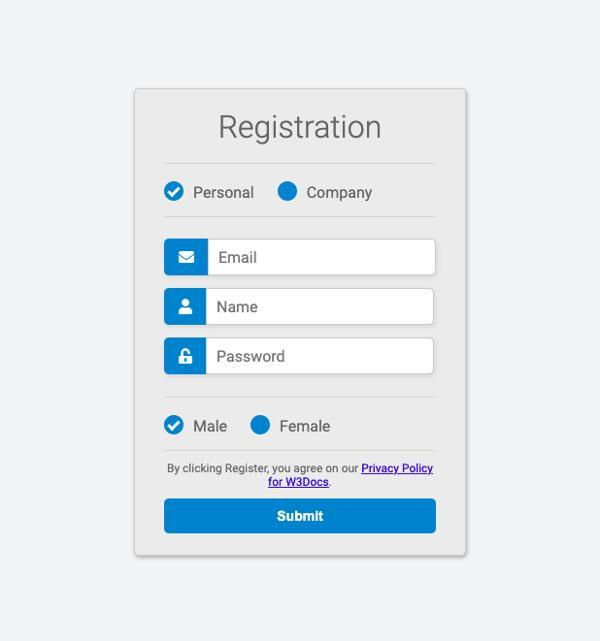button: (166, 500, 439, 536)
icon: (175, 347, 198, 369), (177, 298, 196, 318), (179, 248, 197, 265)
input: (207, 238, 438, 279), (206, 337, 435, 377), (205, 288, 435, 327)
label: (166, 462, 436, 488), (220, 114, 382, 145), (307, 185, 376, 203), (193, 184, 256, 203), (280, 419, 332, 435), (195, 420, 229, 436)
radio: (161, 182, 187, 203), (276, 180, 298, 203), (251, 416, 272, 437), (164, 416, 185, 436)
